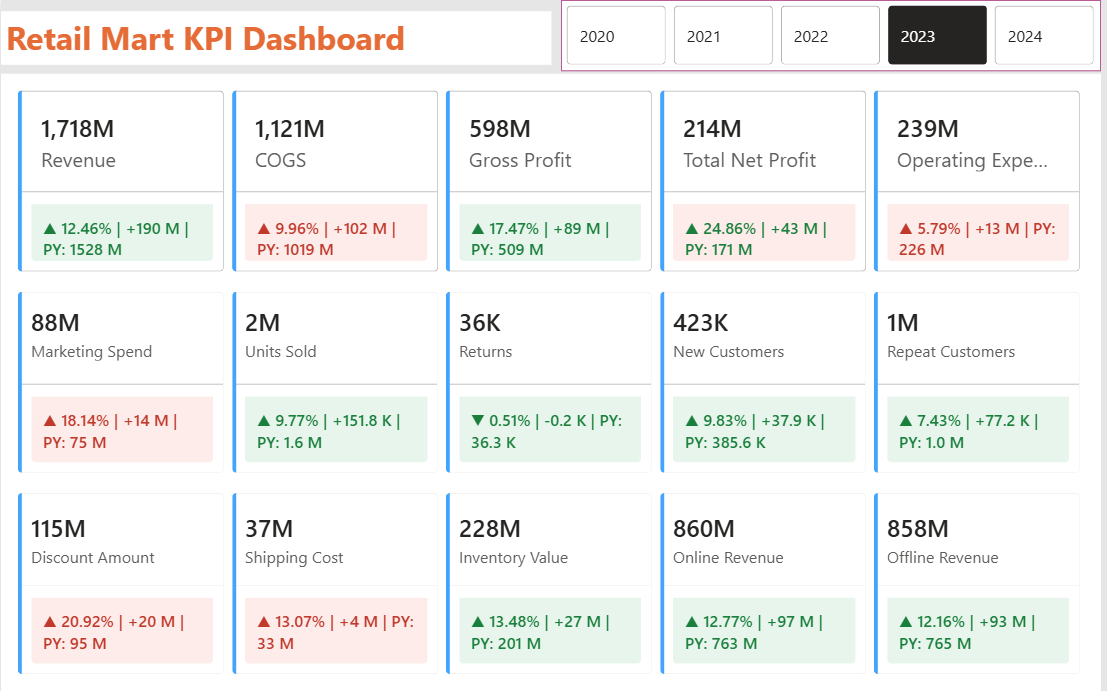

The dashboard page shown, as its layout file describes it:
{"tool":"powerbi","page":{"name":"Executive KPI Dashboard","canvas":[1280,720],"ordinal":0},"visuals":[{"type":"advancedSlicerVisual","fields":{"Values":["DateTable.Year"]},"box":[611.2,11.2,627.5,71.2],"z":0},{"type":"cardVisual","fields":{"Data":["_Measures.01 Total Revenue","_Measures.02 Total COGS","_Measures.03 Total Gross Profit","_Measures.04 Total Net Profit","_Measures.05 Total Operating Expense"]},"box":[8.8,82.5,1241.2,244],"z":1000},{"type":"cardVisual","fields":{"Data":["_Measures.06 Total Marketing Spend","_Measures.07 Total Units Sold","_Measures.08 Total Returns","_Measures.09 Total New Customers","_Measures.10 Total Repeat Customers"]},"box":[25,297.5,1213.8,200],"z":2000},{"type":"cardVisual","fields":{"Data":["_Measures.11 Total Discount Amount","_Measures.12 Total Shipping Cost","_Measures.13 Total Inventory Value","_Measures.14 Total Online Revenue","_Measures.15 Total Offline Revenue"]},"box":[25,483.8,1213,200],"z":3000},{"type":"textbox","box":[28.8,11.2,582.5,81.2],"z":4000}]}

Visuals, with their boxes on the page's 1280x720 design canvas (x1, y1, x2, y2). These are canvas units, not pixel positions in the 1107x691 screenshot, which may show the page scaled, cropped or inside an application window:
advancedSlicerVisual - DateTable.Year: box(611, 11, 1239, 82)
cardVisual - _Measures.01 Total Revenue x _Measures.02 Total COGS: box(9, 82, 1250, 326)
cardVisual - _Measures.06 Total Marketing Spend x _Measures.07 Total Units Sold: box(25, 298, 1239, 498)
cardVisual - _Measures.11 Total Discount Amount x _Measures.12 Total Shipping Cost: box(25, 484, 1238, 684)
textbox: box(29, 11, 611, 92)
